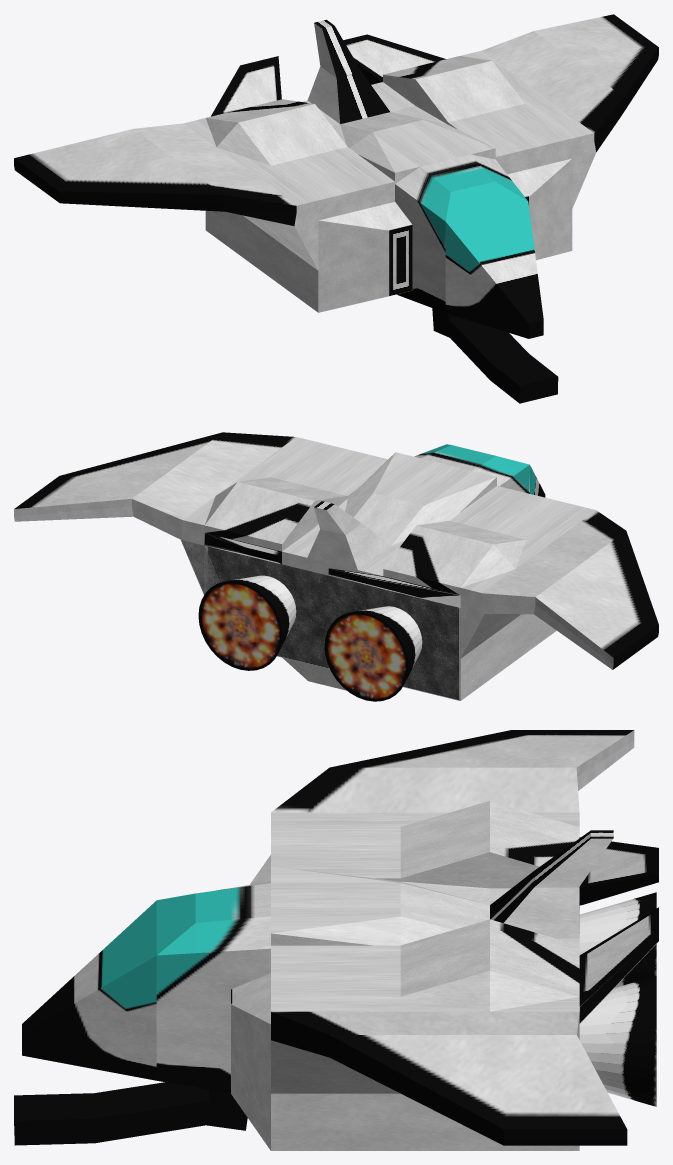
The model's file is space_ship.obj.
The picture shows the model from 3 angles, top to bottom: view 1: azimuth 30°, elevation 25°; view 2: azimuth 150°, elevation 25°; view 3: azimuth 270°, elevation 25°; orthographic projection. The views are drawn at different scales.
Visible parts, largest first — view 1: Cube; view 2: Cube, Cylinder.001, Cylinder; view 3: Cube, Cylinder, Cylinder.001.
Part boxes in pixels (x1,y1,x2,y2): Cube: (14, 14, 658, 403); Cube: (14, 432, 658, 700); Cylinder.001: (324, 606, 422, 701); Cylinder: (198, 575, 296, 670); Cube: (14, 730, 658, 1150); Cylinder: (579, 976, 656, 1106); Cylinder.001: (579, 892, 656, 987).
Size of the model in its own units: 11.89 by 4.14 by 8.12.
Materials: 3 (3 with a texture image).
